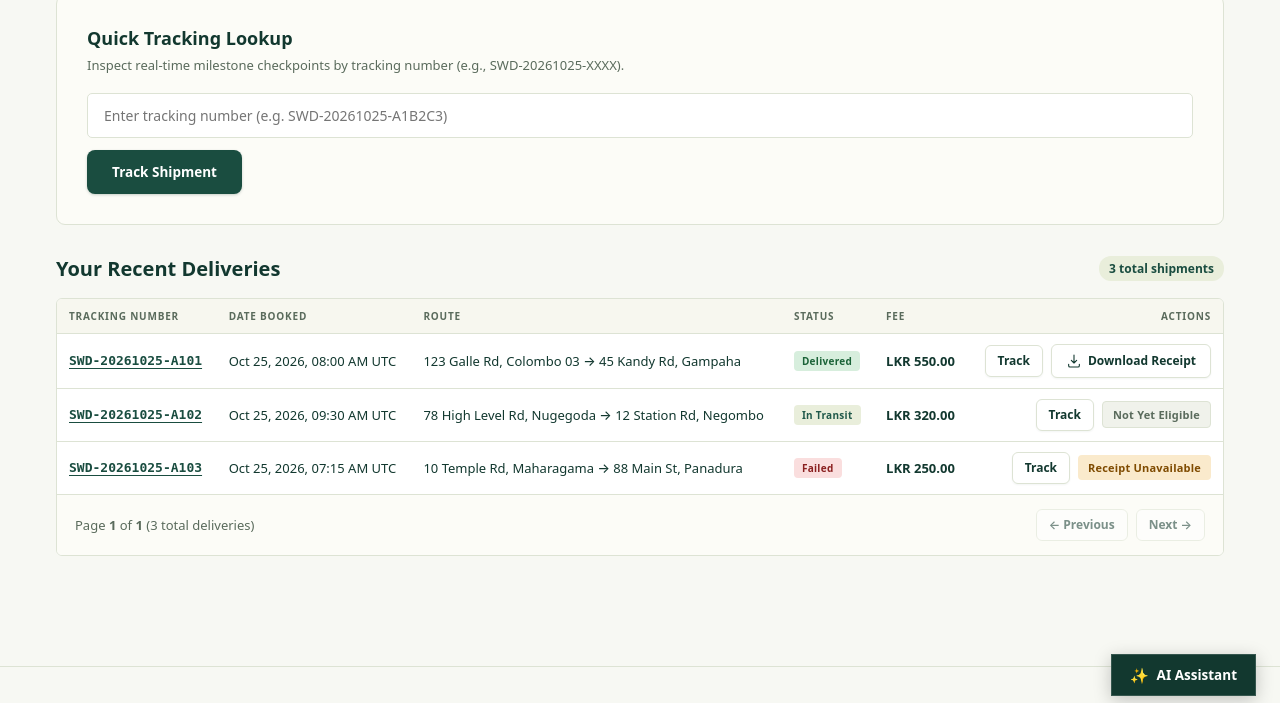
Scenario: Customer History & Tracking View (Issue #27 / LATER-01) › customer tracking modal & milestone view › opens tracking modal when clicking tracking link and displays details
(page scrolled)
What coordinates should you click on to do the following:
click the button with aria-label "view tracking details for SWD-20261025-A101"
I would click on:
 (136, 361)
Its box is x1=69 y1=353 x2=202 y2=368.
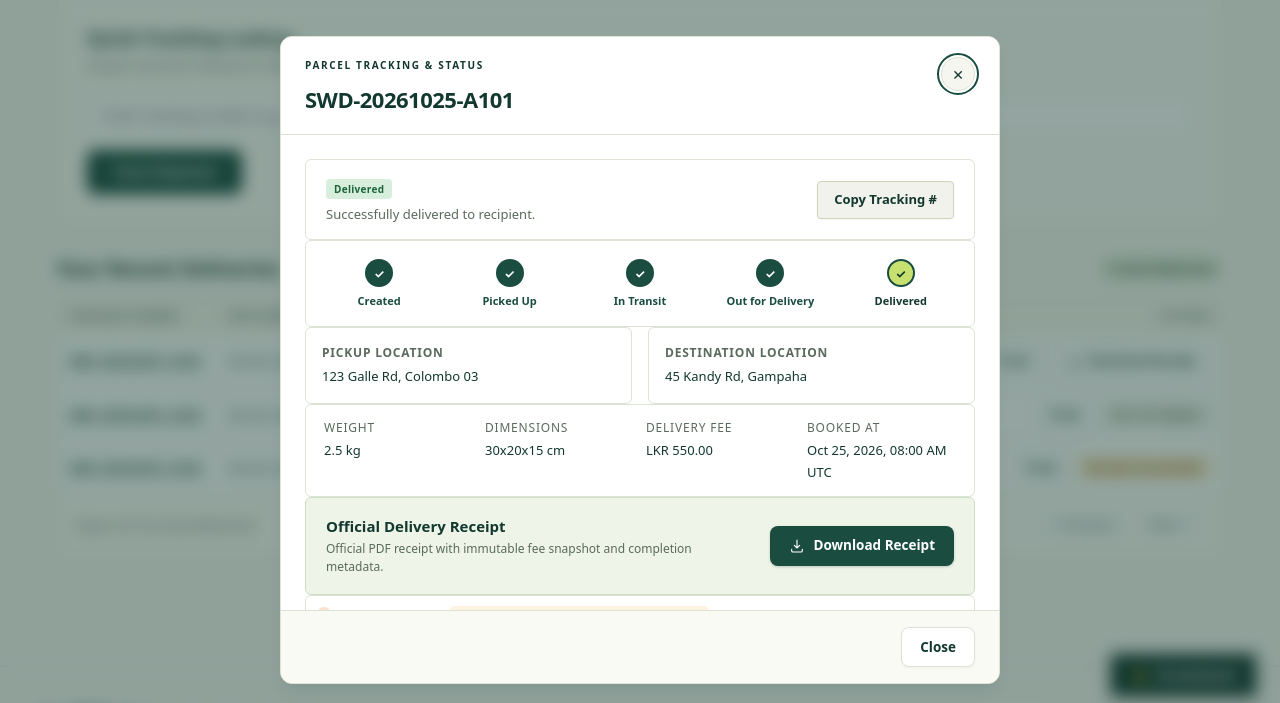
Expected: the dialog is shown, x1=280 y1=36 x2=1000 y2=684
Expected: the heading "SWD-20261025-A101" is shown, x1=305 y1=84 x2=514 y2=114
Expected: the heading "Pickup Location" is shown, x1=322 y1=344 x2=444 y2=361
// Close modal
What coordinates should you click on to do the following:
click the button named "close tracking details"
I would click on:
 (958, 74)
Its box is x1=941 y1=57 x2=975 y2=91.
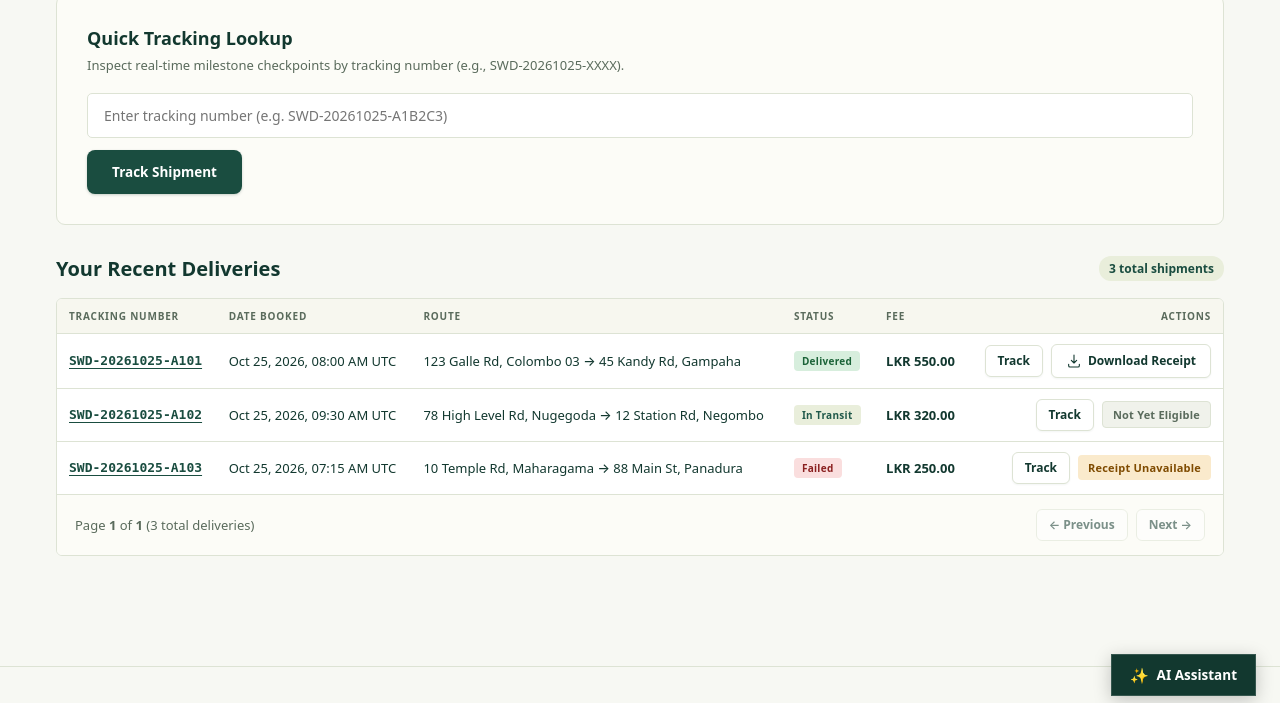
Expected: the dialog is gone
